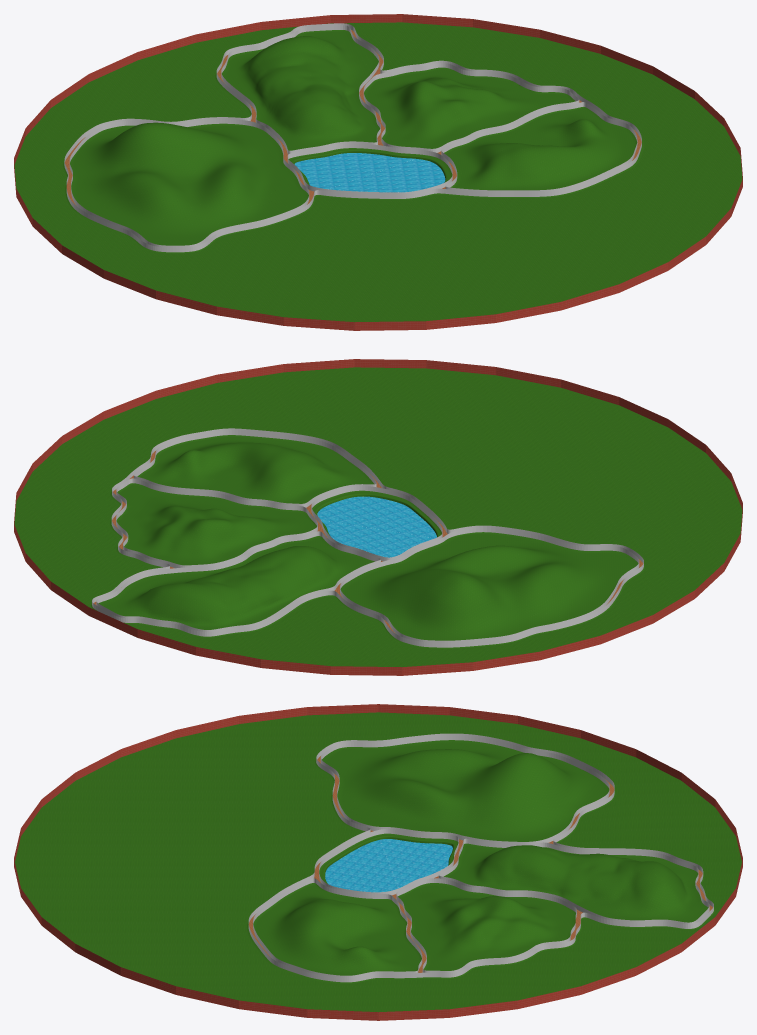
The model's file is path.fbx.
3 views of the same model, one above another, from view 1: azimuth 30°, elevation 25°; view 2: azimuth 150°, elevation 25°; view 3: azimuth 270°, elevation 25° (orthographic).
Visible parts, largest first — view 1: outer_area.001, map_area_4.001, boundry.001, map_area_1.001, map_area_2.001, map_area_3.001, path_edge_wall, water, map_area_4_wall, map_area_3_wall, map_area_2_wall, map_area_1_wall (+4 smaller); view 2: outer_area.001, map_area_4.001, boundry.001, map_area_1.001, map_area_2.001, map_area_3.001, path_edge_wall, water, map_area_4_wall, map_area_1_wall, map_area_2_wall, map_area_3_wall (+4 smaller); view 3: outer_area.001, map_area_4.001, boundry.001, map_area_1.001, map_area_2.001, map_area_3.001, path_edge_wall, water, map_area_4_wall, map_area_1_wall, map_area_3_wall, map_area_2_wall (+4 smaller).
Boxes of the visible parts, x1,y1,x2,y2 form: outer_area.001: [14, 22, 742, 322]; map_area_4.001: [70, 122, 308, 245]; boundry.001: [14, 14, 742, 330]; map_area_1.001: [222, 30, 380, 150]; map_area_2.001: [444, 107, 637, 190]; map_area_3.001: [364, 67, 575, 148]; path_edge_wall: [64, 23, 641, 252]; water: [294, 153, 445, 192]; map_area_4_wall: [69, 119, 309, 247]; map_area_3_wall: [363, 63, 579, 152]; map_area_2_wall: [441, 102, 637, 192]; map_area_1_wall: [221, 25, 380, 154]; outer_area.001: [14, 367, 742, 667]; map_area_4.001: [340, 532, 638, 640]; boundry.001: [14, 359, 742, 675]; map_area_1.001: [98, 536, 374, 629]; map_area_2.001: [137, 435, 374, 503]; map_area_3.001: [116, 483, 316, 565]; path_edge_wall: [92, 428, 643, 647]; water: [317, 496, 436, 557]; map_area_4_wall: [340, 527, 639, 642]; map_area_1_wall: [96, 531, 380, 631]; map_area_2_wall: [134, 430, 376, 507]; map_area_3_wall: [116, 478, 317, 568]; outer_area.001: [15, 712, 741, 1012]; map_area_4.001: [322, 740, 609, 841]; boundry.001: [14, 704, 742, 1020]; map_area_1.001: [444, 843, 708, 922]; map_area_2.001: [253, 883, 421, 975]; map_area_3.001: [398, 883, 575, 970]; path_edge_wall: [248, 733, 713, 982]; water: [325, 839, 452, 892]; map_area_4_wall: [320, 735, 609, 843]; map_area_1_wall: [438, 838, 709, 924]; map_area_3_wall: [396, 878, 576, 972]; map_area_2_wall: [253, 878, 422, 977].
Bounding box in the file's own units: 68485 × 4133 × 68485.
